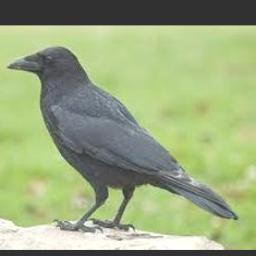Crow: (9, 46, 237, 232)
